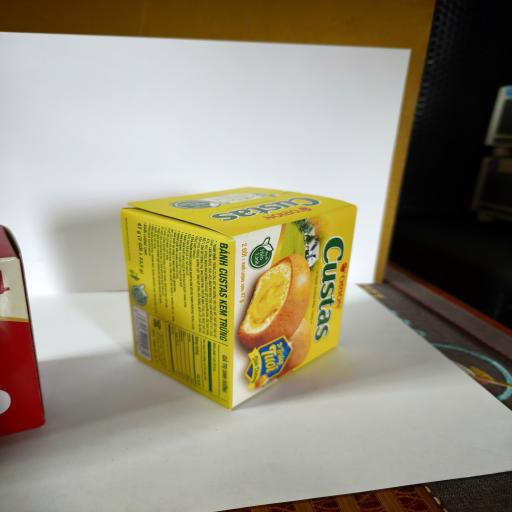custas: (120, 187, 358, 411)
